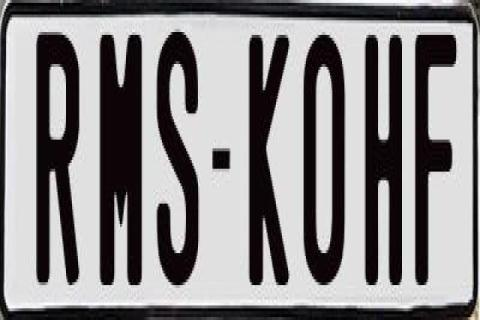0: (302, 29, 348, 288)
F: (414, 35, 458, 297)
H: (362, 32, 404, 285)
K: (246, 26, 290, 294)
M: (100, 35, 142, 291)
R: (34, 32, 82, 294)
S: (154, 29, 204, 299)
